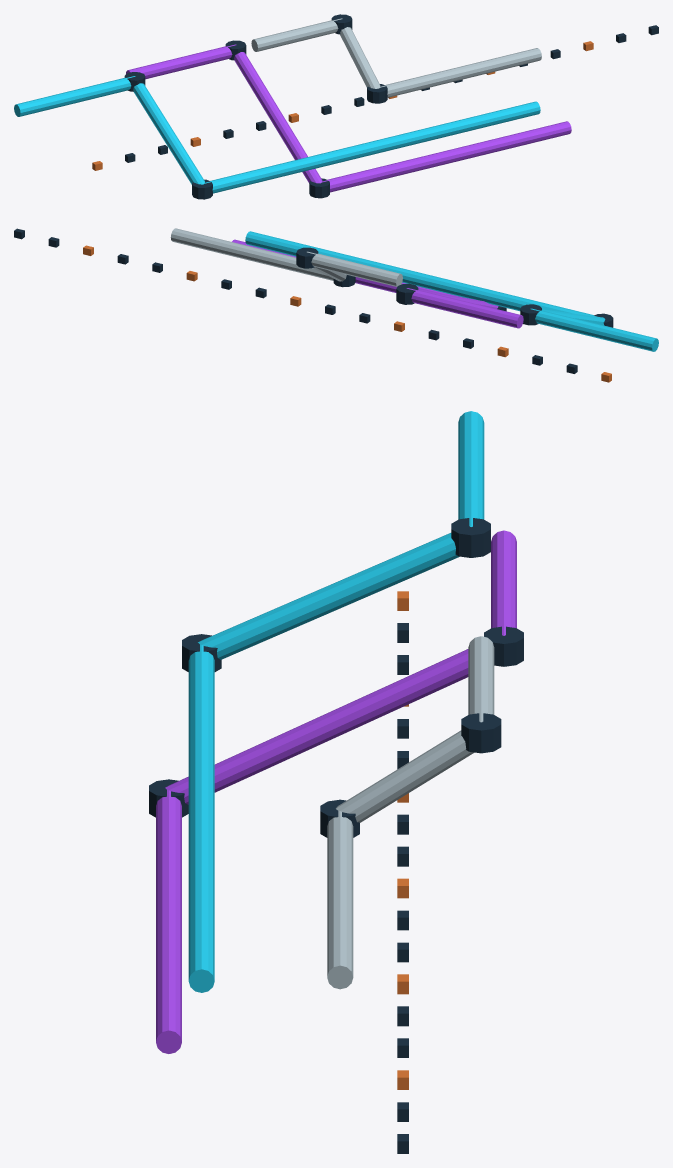
The model's file is 24_L72_HeatedGasDeliveryPipeline.fbx.
The picture shows the model from 3 angles, top to bottom: view 1: azimuth 30°, elevation 25°; view 2: azimuth 150°, elevation 25°; view 3: azimuth 270°, elevation 25°; orthographic projection. The views are drawn at different scales.
Visible parts, largest first — view 1: HeatedGasDeliveryPipeline; view 2: HeatedGasDeliveryPipeline; view 3: HeatedGasDeliveryPipeline.
Part boxes in pixels (x1=…): HeatedGasDeliveryPipeline: x1=14, y1=14, x2=658, y2=199; HeatedGasDeliveryPipeline: x1=14, y1=228, x2=658, y2=382; HeatedGasDeliveryPipeline: x1=149, y1=411, x2=523, y2=1153.
Size of the model in its own units: 571 by 82.4 by 149.
